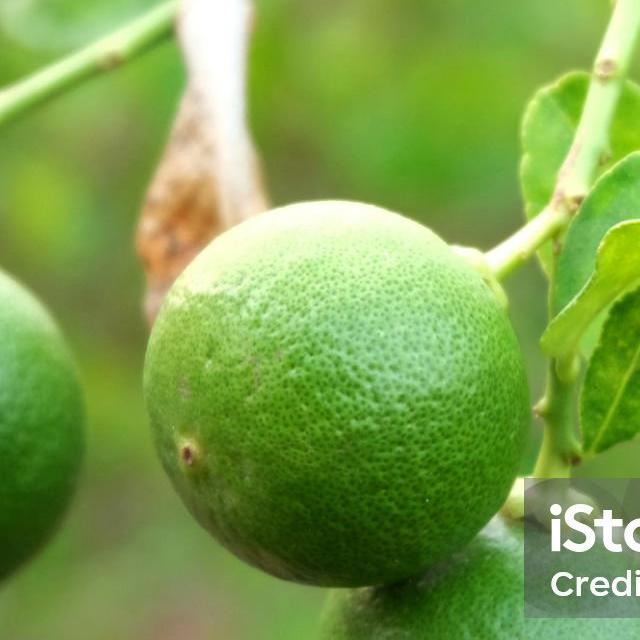lime: (141, 200, 534, 596)
